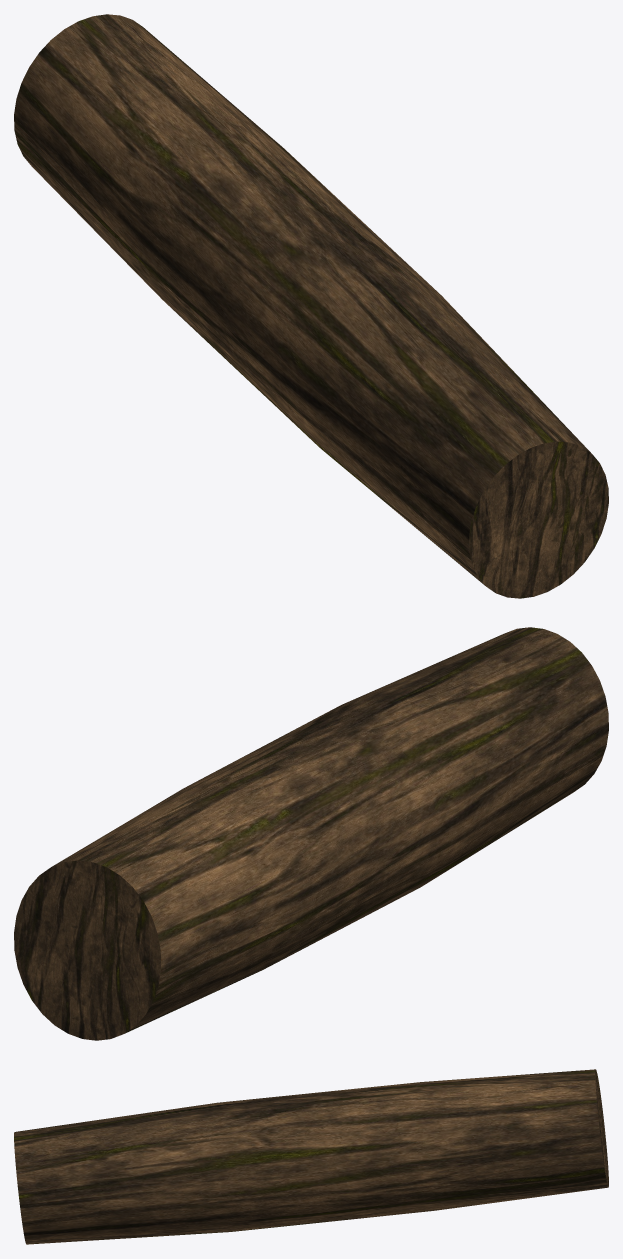
The model's file is Wood_Campfire.glb.
3 renders of one model, top to bottom at view 1: azimuth 30°, elevation 25°; view 2: azimuth 150°, elevation 25°; view 3: azimuth 270°, elevation 25°, orthographic. The views are drawn at different scales.
Parts seen in each view (by area): view 1: Cylinder; view 2: Cylinder; view 3: Cylinder.
Boxes of the visible parts, x1=… form: Cylinder: x1=14, y1=14, x2=608, y2=598; Cylinder: x1=14, y1=627, x2=608, y2=1040; Cylinder: x1=14, y1=1069, x2=608, y2=1244.
Bounding box in the file's own units: 0.4179 × 0.6401 × 2.08.
1 material, 1 textured.
